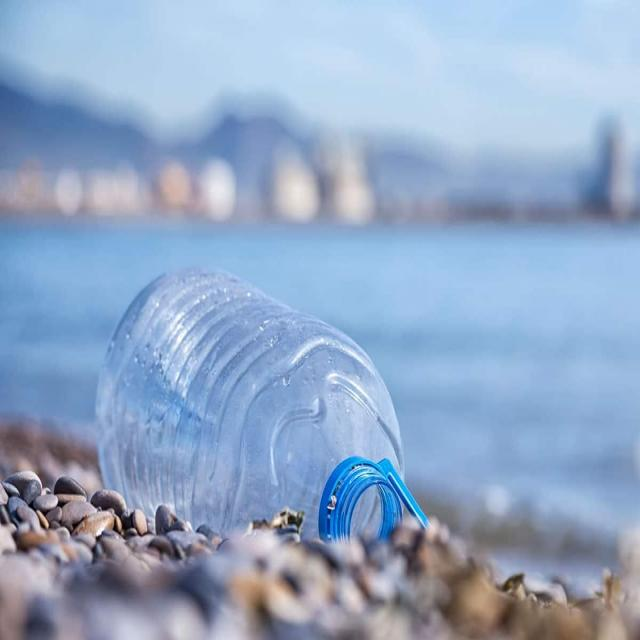plastic_bottle: (92, 249, 452, 580)
